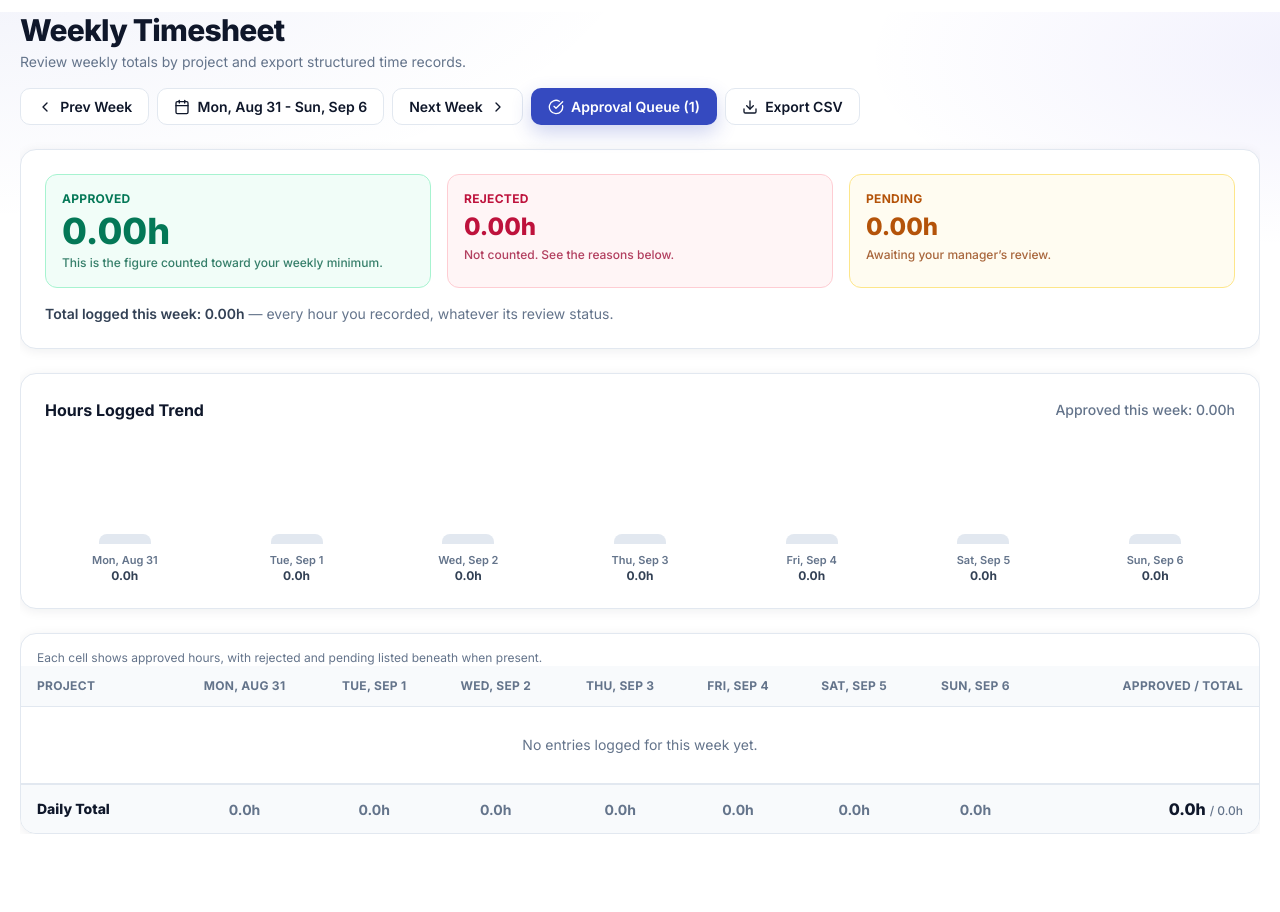
Test: UAT remediation regressions › opens the in-page approval queue from Timesheet instead of redirecting
What coordinates should you click on to do the following:
click the button "Approval Queue (1)"
I would click on:
 (624, 107)
Its box is [531,88,717,125].
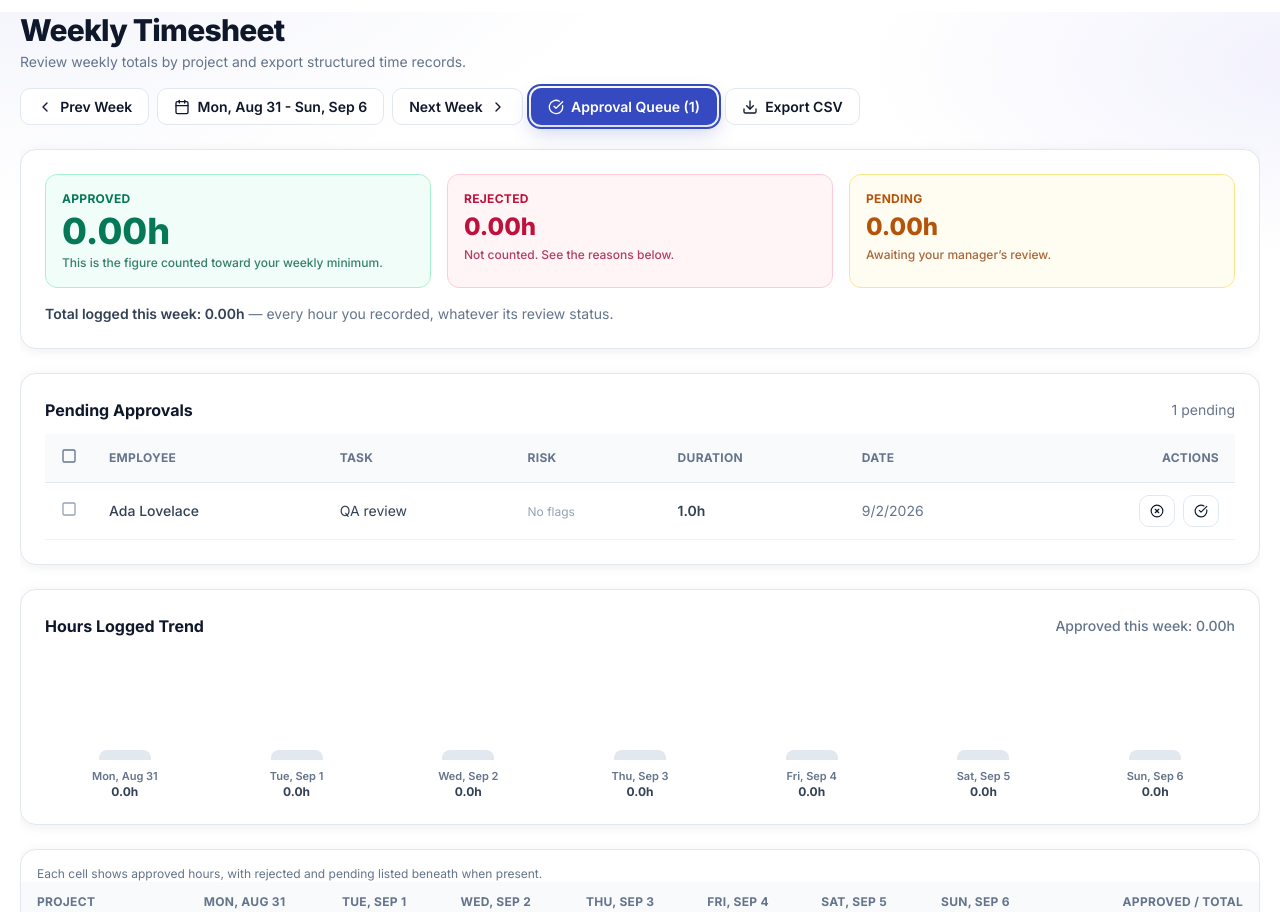
expect the heading "Pending Approvals" is shown: met, box [45,398,193,422]
expect the text "QA review" is shown: met, box [324,483,512,540]
